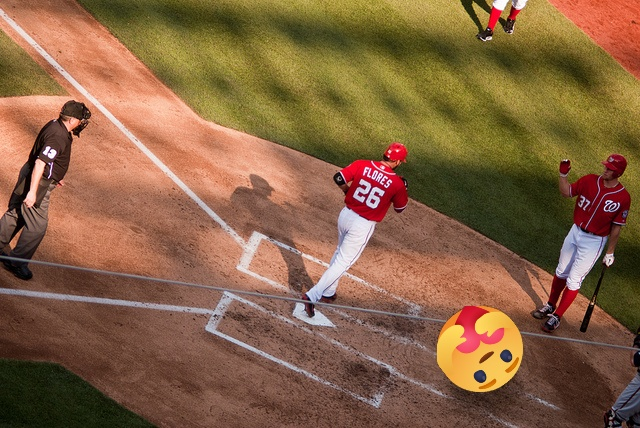care: (437, 306, 523, 392)
